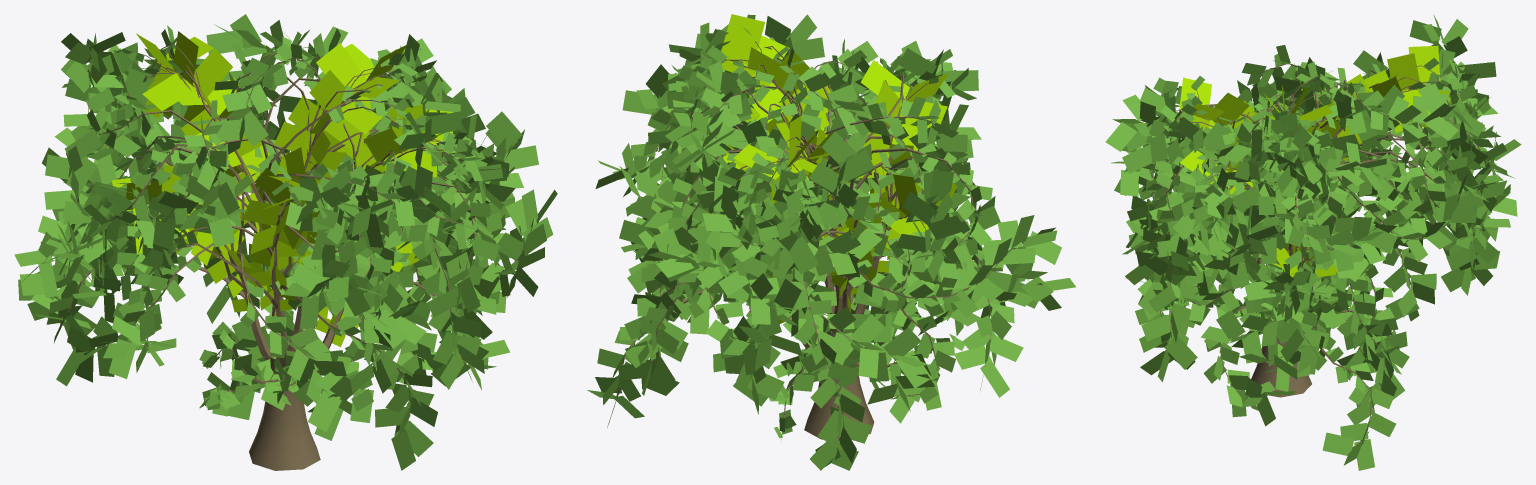
The model's file is tree_01.dae.
3 renders of one model, left to right at view 1: azimuth 30°, elevation 25°; view 2: azimuth 150°, elevation 25°; view 3: azimuth 270°, elevation 25°, orthographic. The views are drawn at different scales.
Parts seen in each view (by area): view 1: plant_pmat4_001, plant_pmat5_001, plant_pmat3_001, plant_pmat7_001, plant_pmat1_001, plant_pmat2_001; view 2: plant_pmat4_001, plant_pmat5_001, plant_pmat3_001, plant_pmat7_001, plant_pmat1_001, plant_pmat2_001; view 3: plant_pmat4_001, plant_pmat5_001, plant_pmat3_001, plant_pmat1_001, plant_pmat7_001.
Part boxes in pixels (x1,y1,x2,y2): plant_pmat4_001: (14, 14, 557, 470); plant_pmat5_001: (112, 31, 461, 347); plant_pmat3_001: (44, 42, 525, 403); plant_pmat7_001: (199, 262, 358, 419); plant_pmat1_001: (249, 356, 320, 470); plant_pmat2_001: (132, 70, 442, 367); plant_pmat4_001: (587, 14, 1075, 470); plant_pmat5_001: (693, 14, 957, 324); plant_pmat3_001: (617, 41, 1029, 440); plant_pmat7_001: (768, 272, 964, 438); plant_pmat1_001: (804, 331, 874, 439); plant_pmat2_001: (744, 67, 908, 347); plant_pmat4_001: (1105, 15, 1521, 470); plant_pmat5_001: (1175, 45, 1453, 323); plant_pmat3_001: (1132, 64, 1492, 446); plant_pmat1_001: (1251, 317, 1311, 397); plant_pmat7_001: (1180, 248, 1395, 336).
Size of the model in its own units: 7.1 by 6.56 by 5.94.
